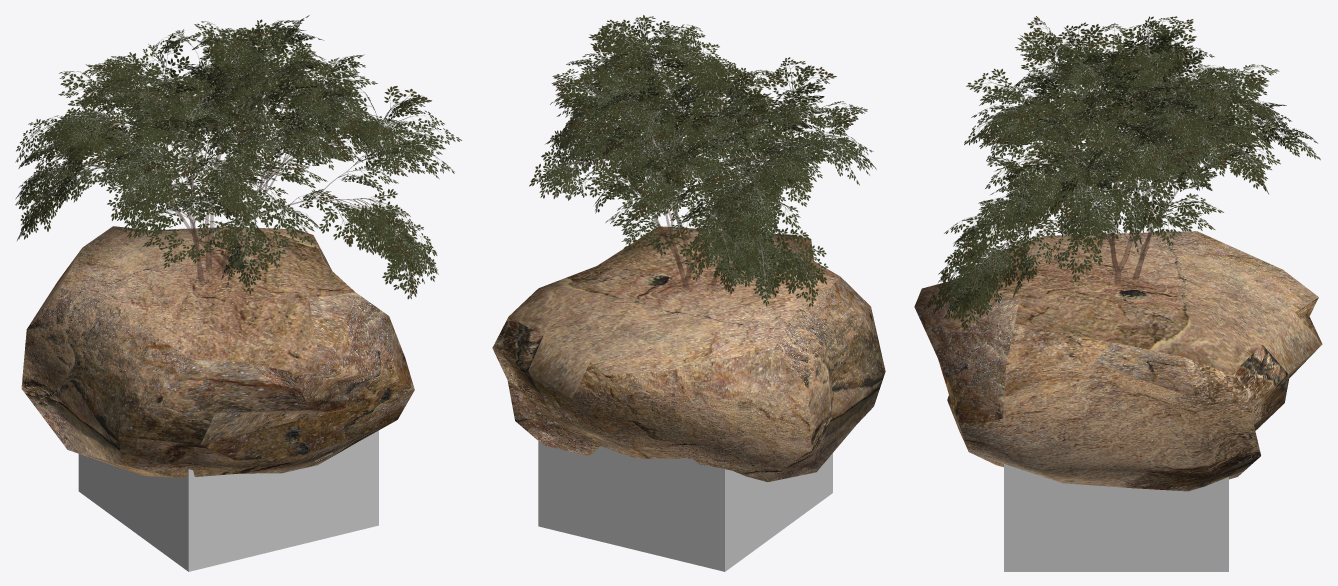
Rendered from rock_blender.glb.
The picture shows the model from 3 angles, left to right: view 1: azimuth 30°, elevation 25°; view 2: azimuth 150°, elevation 25°; view 3: azimuth 270°, elevation 25°; orthographic projection. The views are drawn at different scales.
Visible parts, largest first — view 1: Cube.001, Tree, Cube; view 2: Cube.001, Tree, Cube; view 3: Cube.001, Tree, Cube.
Boxes of the visible parts, box(x1,y1,x2,y2) form: Cube.001: box(21, 226, 414, 477); Tree: box(15, 15, 462, 299); Cube: box(78, 430, 378, 571); Cube.001: box(492, 226, 885, 481); Tree: box(529, 15, 876, 307); Cube: box(538, 441, 832, 571); Cube.001: box(914, 231, 1322, 491); Tree: box(925, 16, 1320, 330); Cube: box(1004, 464, 1228, 571).
Size of what is drawn, in the model's own units: 3.63 by 4.82 by 3.64.
Materials: 4 (3 with a texture image).
